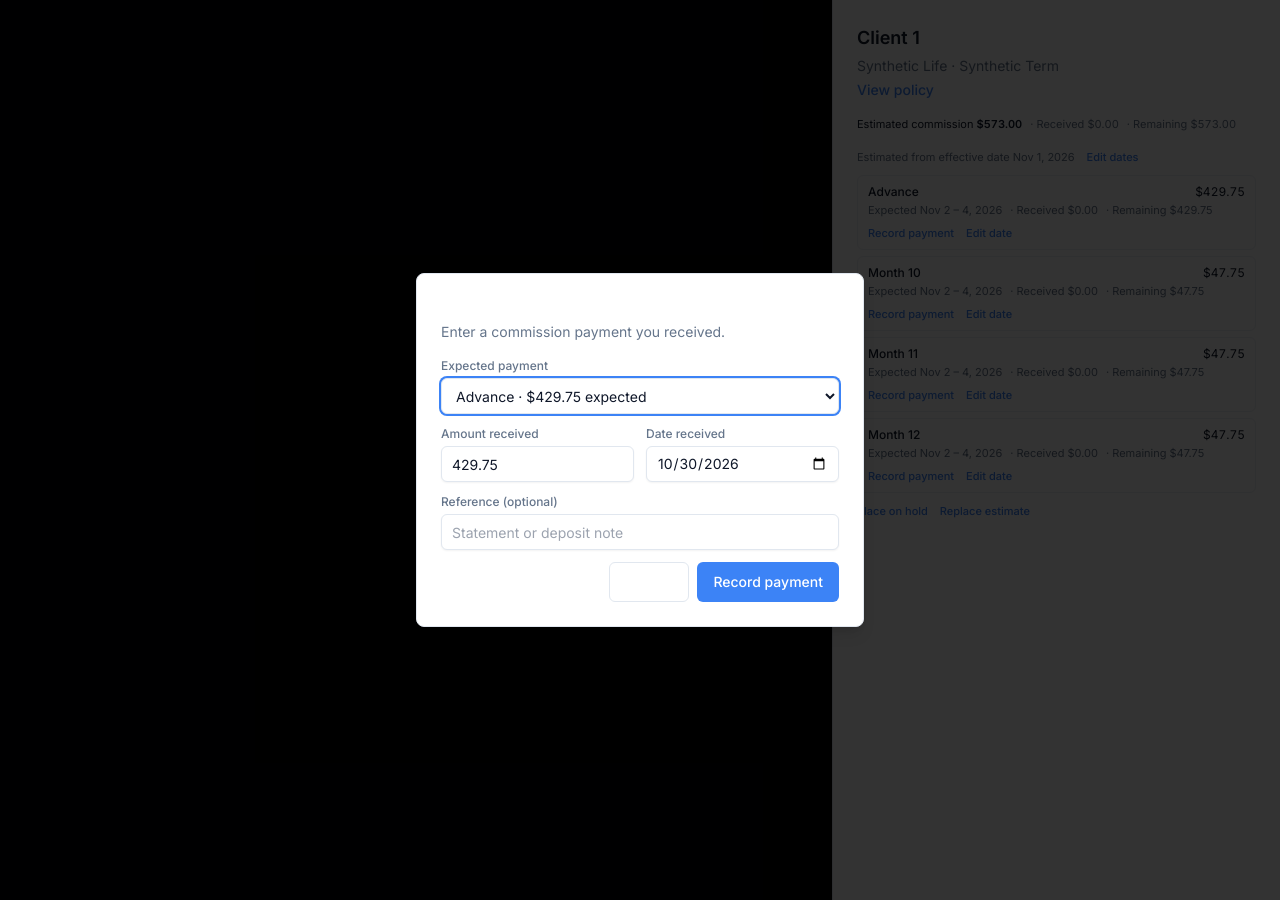
Commission drawer › an unknown payment outcome stays locked across closing the dialog and the drawer; Retry resends the same request
Expected: the button "Record payment" is enabled, [697,562,839,602]
Replace the text in the field labelled "Amount received" with "300.00" at (538, 464), box [441,446,634,482]
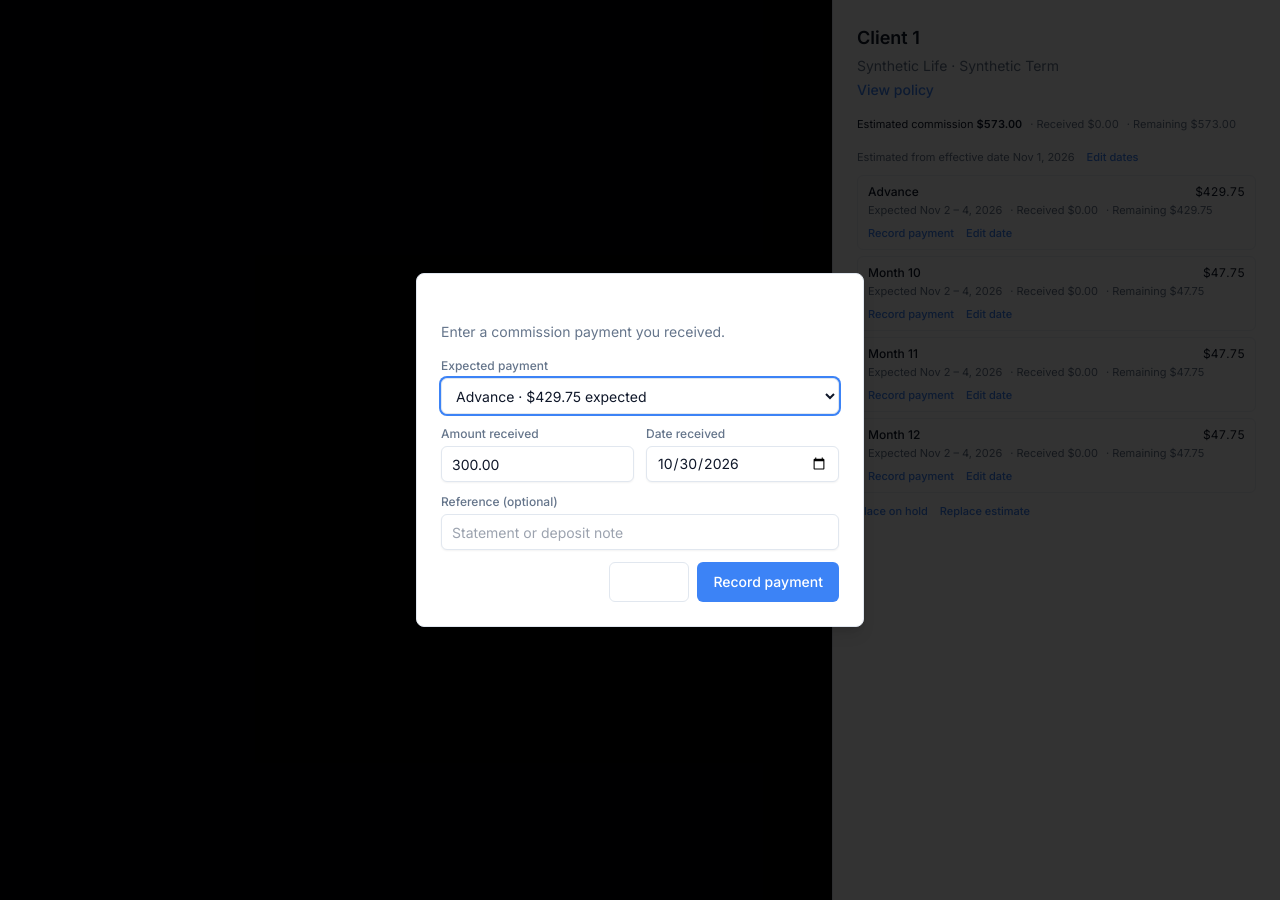
Click the button "Record payment".
click(768, 582)  # box [697,562,839,602]
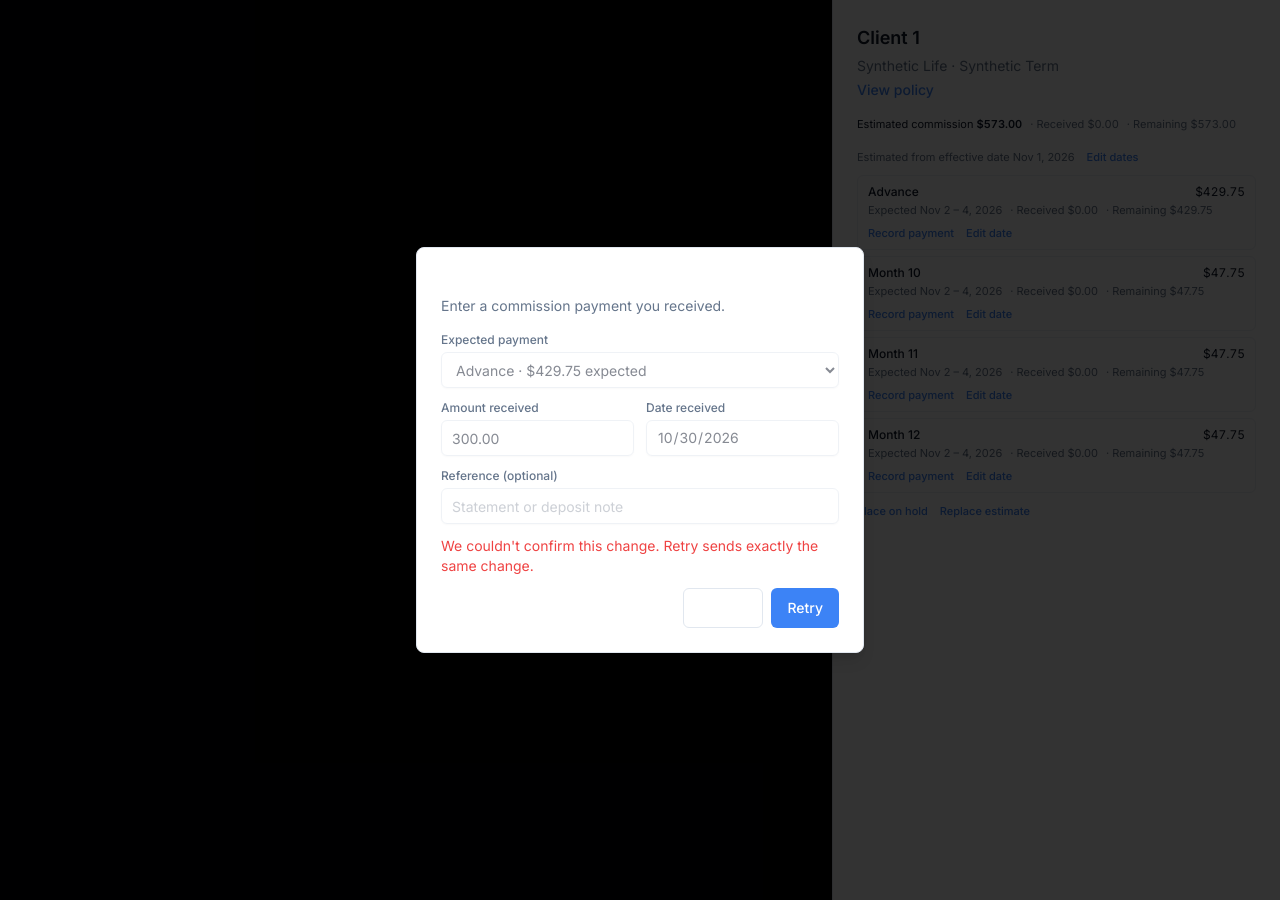
Expected: the text "We couldn't confirm this change. Retry sends exactly the same change." is shown, [441,536,839,576]
Click the button "Cancel".
click(723, 608)  # box [683,588,764,628]
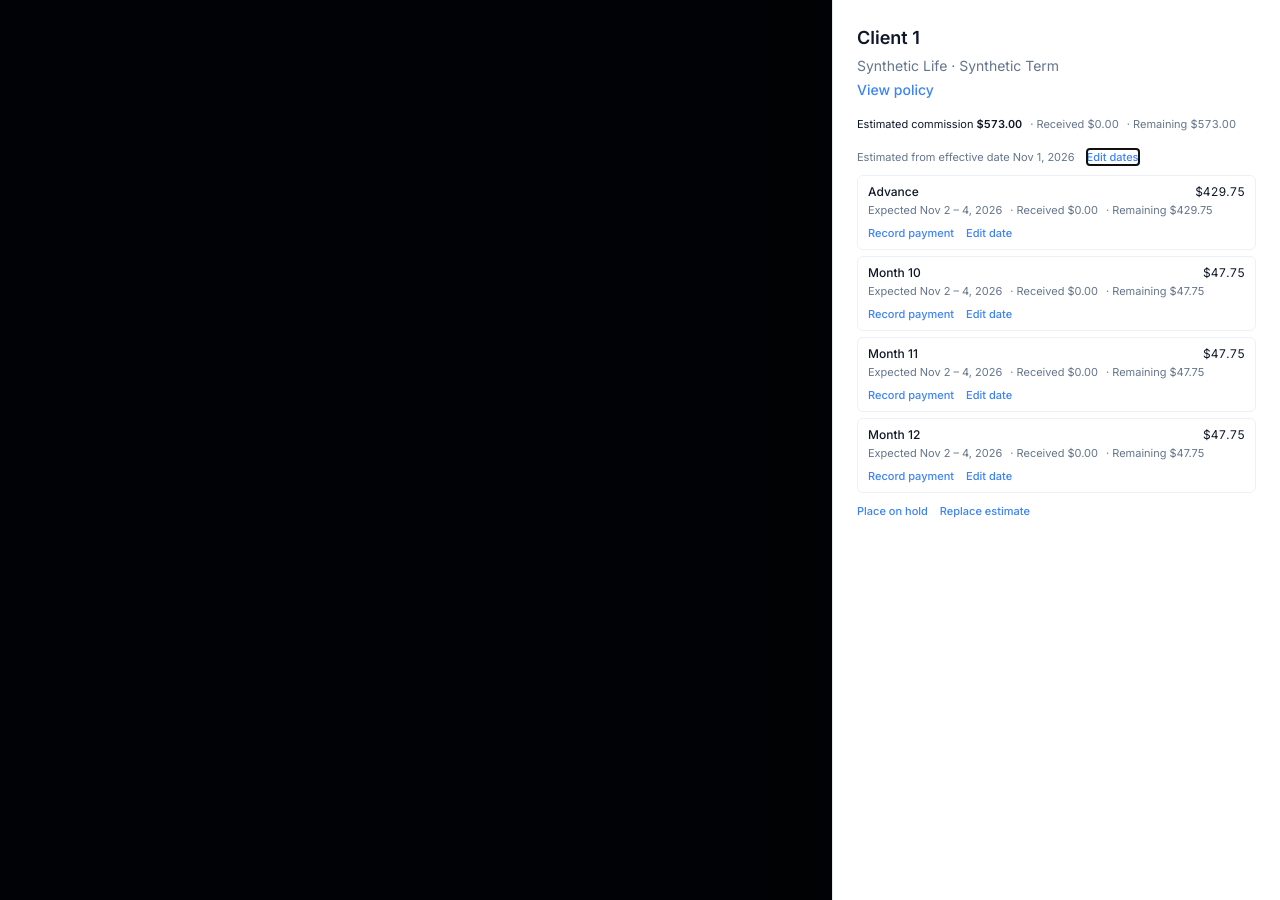
Click the button "Record payment" below "Advance".
click(911, 233)  # box [868,224,954,241]
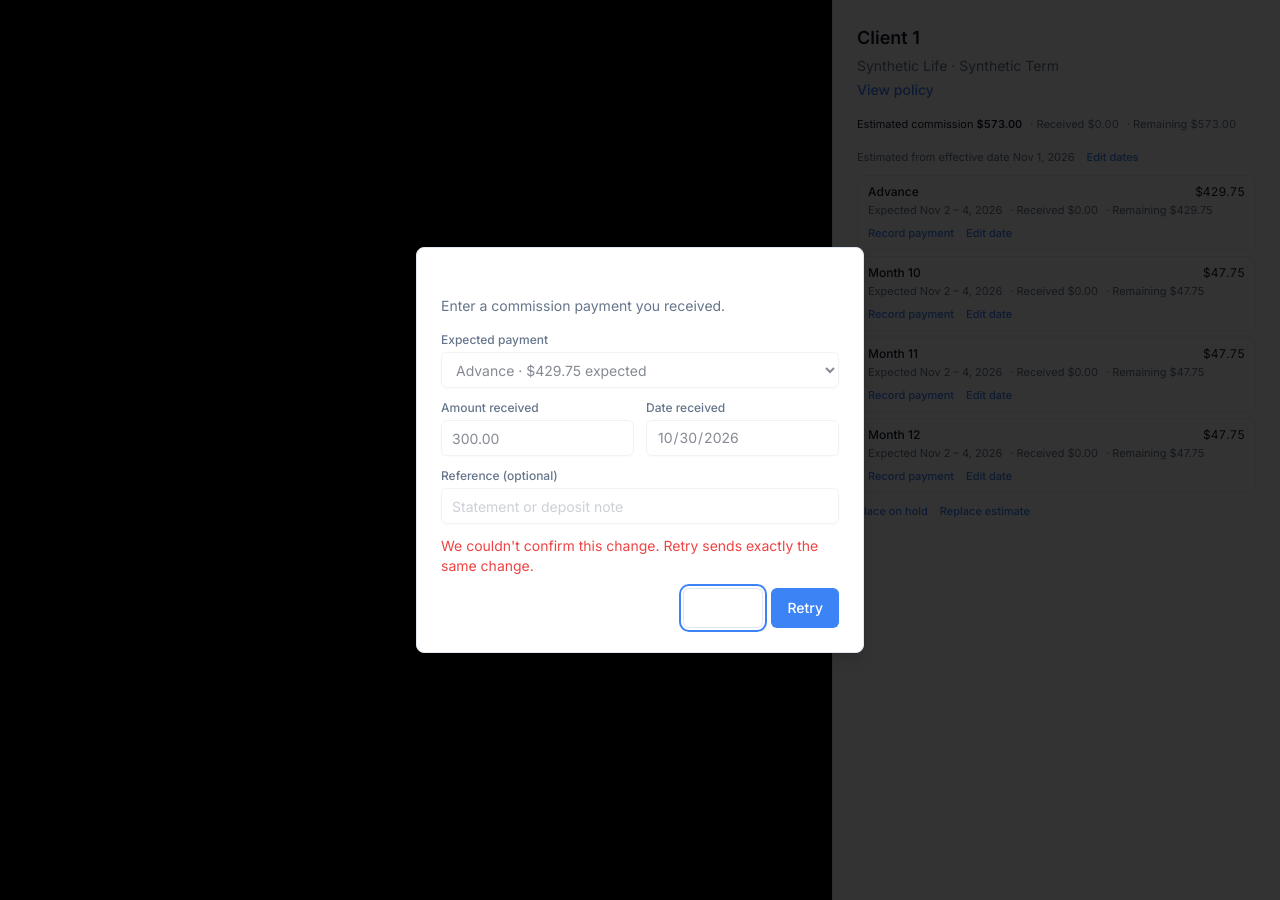
Expected: the field labelled "Amount received" holds "300.00", [441,420,634,456]
Expected: the field labelled "Amount received" is disabled, [441,420,634,456]
Expected: the button "Retry" is enabled
Click the button "Retry".
click(805, 608)  # box [771,588,839,628]
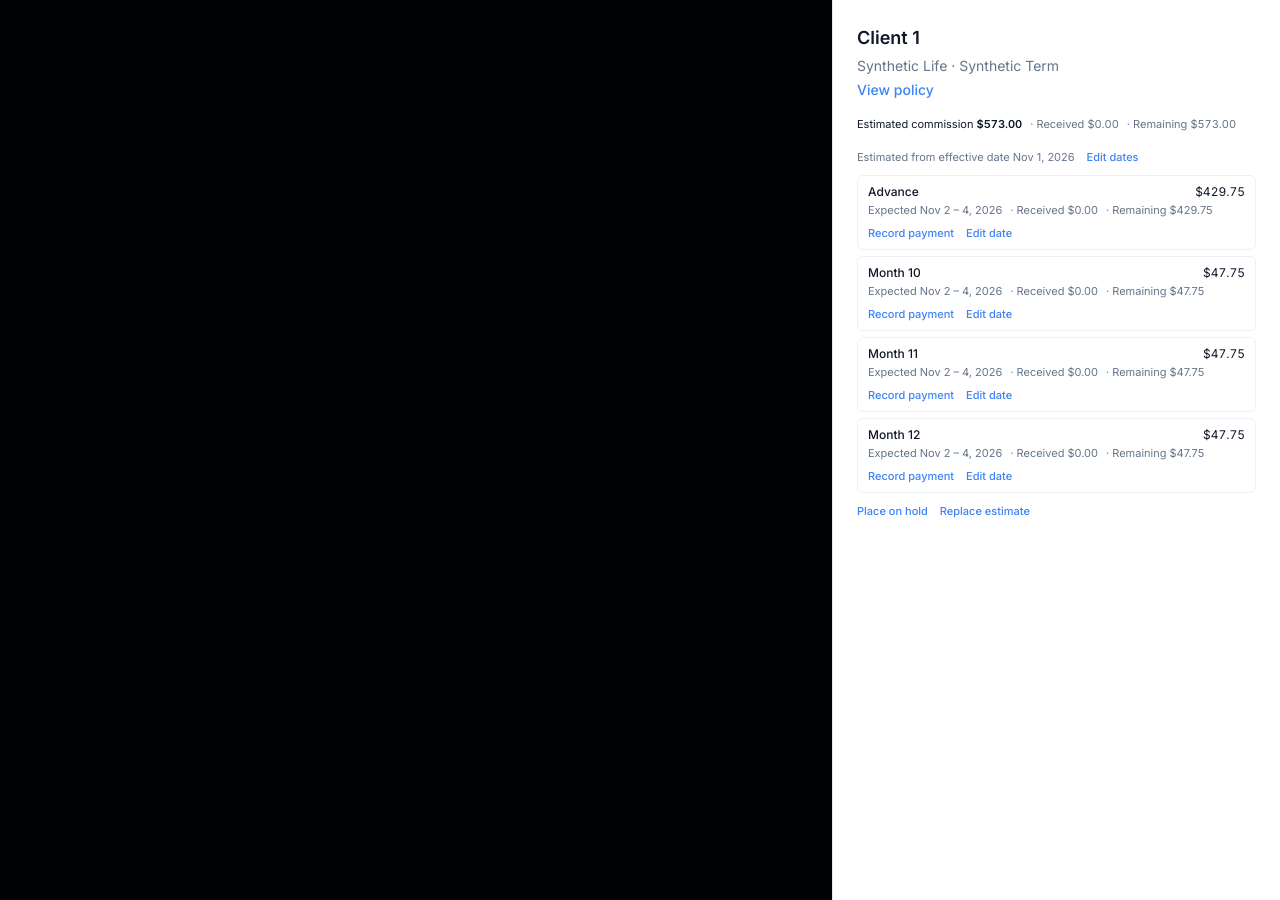
Expected: the heading "Record payment received" is gone
